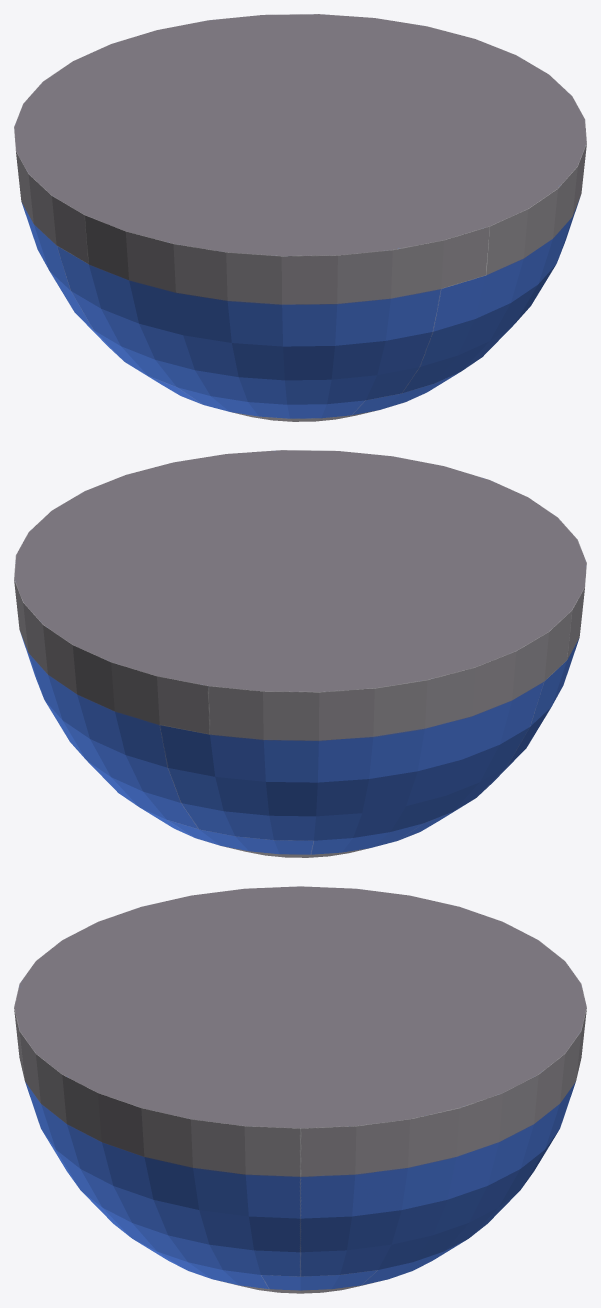
The model's file is bossLowerBody.obj.
3 views of the same model, one above another, from view 1: azimuth 30°, elevation 25°; view 2: azimuth 150°, elevation 25°; view 3: azimuth 270°, elevation 25° (orthographic).
Parts seen in each view (by area): view 1: 球; view 2: 球; view 3: 球.
Part boxes in pixels (<box>): 球: <box>14,14,586,421</box>; 球: <box>14,450,586,857</box>; 球: <box>14,886,586,1293</box>.
Bounding box in the file's own units: 2 × 1 × 2.
1 material, 1 textured.
